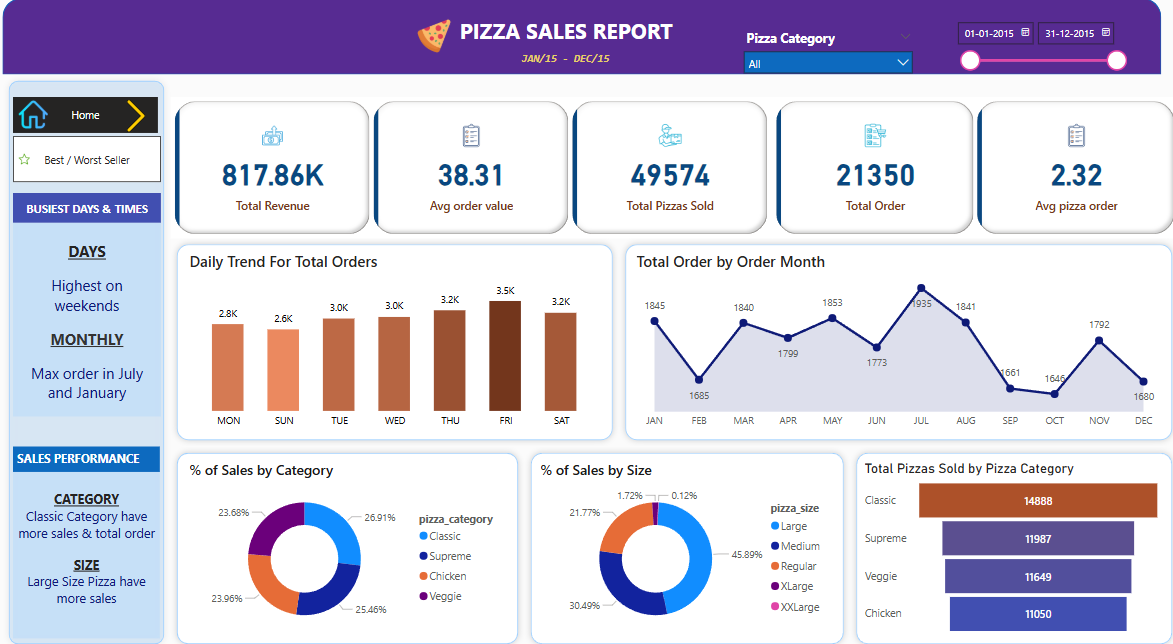

What the dashboard file says about the page in this screenshot:
{"tool":"powerbi","page":{"name":"Home","canvas":[1500,820],"ordinal":0},"visuals":[{"type":"cardVisual","fields":{"Data":["pizza_sales.Total Revenue","pizza_sales.Avg order value","pizza_sales.Total Pizzas Sold"]},"box":[231.5,124.1,757.4,177.8],"z":0},{"type":"cardVisual","fields":{"Data":["pizza_sales.Total Order","pizza_sales.Avg pizza order"]},"box":[988.9,124.1,511.1,177.8],"z":1000},{"type":"shape","box":[20.4,0,1457.4,96.3],"z":2000},{"type":"textbox","box":[563,16.7,335.2,63],"z":3000},{"type":"textbox","box":[596.3,61.1,264.8,35.2],"z":4000},{"type":"image","box":[533.3,20.4,59.3,53.7],"z":5000},{"type":"shape","box":[232,301.8,564.1,262.2],"z":6000},{"type":"columnChart","title":"Daily Trend For Total Orders","fields":{"Category":["pizza_sales.Order Day"],"Y":["pizza_sales.Total Order"]},"box":[250.9,318.8,526.3,230.2],"z":7000},{"type":"shape","box":[796.1,301.8,703.7,262.2],"z":8000},{"type":"areaChart","fields":{"Category":["pizza_sales.Order Month"],"Y":["pizza_sales.Total Order"]},"box":[813.1,318.8,669.7,230.2],"z":9000},{"type":"shape","box":[232,564.1,445.2,256.6],"z":10000},{"type":"shape","box":[677.3,564.1,409.4,256.6],"z":11000},{"type":"shape","box":[1086.7,564.1,413.2,256.6],"z":12000},{"type":"donutChart","title":"% of Sales by Category","fields":{"Category":["pizza_sales.pizza_category"],"Y":["pizza_sales.Total Revenue"]},"box":[250.9,581.1,407.5,224.5],"z":13000},{"type":"donutChart","title":"% of Sales by Size","fields":{"Y":["pizza_sales.Total Revenue"],"Category":["pizza_sales.pizza_size"]},"box":[692.4,581.1,379.2,224.5],"z":14000},{"type":"funnel","title":"Total Pizzas Sold by Pizza Category","fields":{"Category":["pizza_sales.pizza_category"],"Y":["pizza_sales.Total Pizzas Sold"]},"box":[1099.9,581.1,383,224.5],"z":15000},{"type":"shape","box":[20.8,96.2,211.3,724.4],"z":16000},{"type":"textbox","box":[33.2,245.8,186,37.6],"z":17000},{"type":"textbox","box":[33.2,283.5,186,243.6],"z":18000},{"type":"textbox","box":[34,564.1,184.9,32.1],"z":19000},{"type":"textbox","box":[34,596.1,184.9,209.4],"z":20000},{"type":"pageNavigator","box":[34,124.5,183,45.3],"z":21000},{"type":"image","box":[160.4,122.6,56.6,50.9],"z":22000},{"type":"pageNavigator","box":[34,173.6,186.8,58.5],"z":23000},{"type":"image","box":[35.8,118.9,47.2,54.7],"z":24000},{"type":"slicer","fields":{"Values":["pizza_sales.pizza_category"]},"box":[943.3,34,232,62.3],"z":25000},{"type":"slicer","fields":{"Values":["pizza_sales.order_date"]},"box":[1209.3,20.8,233.9,79.2],"z":25001},{"type":"image","box":[35.8,173.6,24.5,58.5],"z":25002}]}

Visuals, with their boxes in screenshot pixels (x1, y1, x2, y2), scaled from the page's 1500x820 canvas onto the 1173x644 screenshot:
cardVisual - pizza_sales.Total Revenue x pizza_sales.Avg order value: rect(181, 97, 773, 237)
cardVisual - pizza_sales.Total Order x pizza_sales.Avg pizza order: rect(773, 97, 1172, 237)
shape: rect(16, 0, 1156, 76)
textbox: rect(440, 13, 702, 63)
textbox: rect(466, 48, 673, 76)
image: rect(417, 16, 463, 58)
shape: rect(181, 237, 623, 443)
"Daily Trend For Total Orders" columnChart: rect(196, 250, 608, 431)
shape: rect(623, 237, 1172, 443)
areaChart - pizza_sales.Order Month x pizza_sales.Total Order: rect(636, 250, 1160, 431)
shape: rect(181, 443, 530, 643)
shape: rect(530, 443, 850, 643)
shape: rect(850, 443, 1172, 643)
"% of Sales by Category" donutChart: rect(196, 456, 515, 633)
"% of Sales by Size" donutChart: rect(541, 456, 838, 633)
"Total Pizzas Sold by Pizza Category" funnel: rect(860, 456, 1160, 633)
shape: rect(16, 76, 182, 643)
textbox: rect(26, 193, 171, 223)
textbox: rect(26, 223, 171, 414)
textbox: rect(27, 443, 171, 468)
textbox: rect(27, 468, 171, 633)
pageNavigator: rect(27, 98, 170, 133)
image: rect(125, 96, 170, 136)
pageNavigator: rect(27, 136, 173, 182)
image: rect(28, 93, 65, 136)
slicer - pizza_sales.pizza_category: rect(738, 27, 919, 76)
slicer - pizza_sales.order_date: rect(946, 16, 1129, 79)
image: rect(28, 136, 47, 182)
